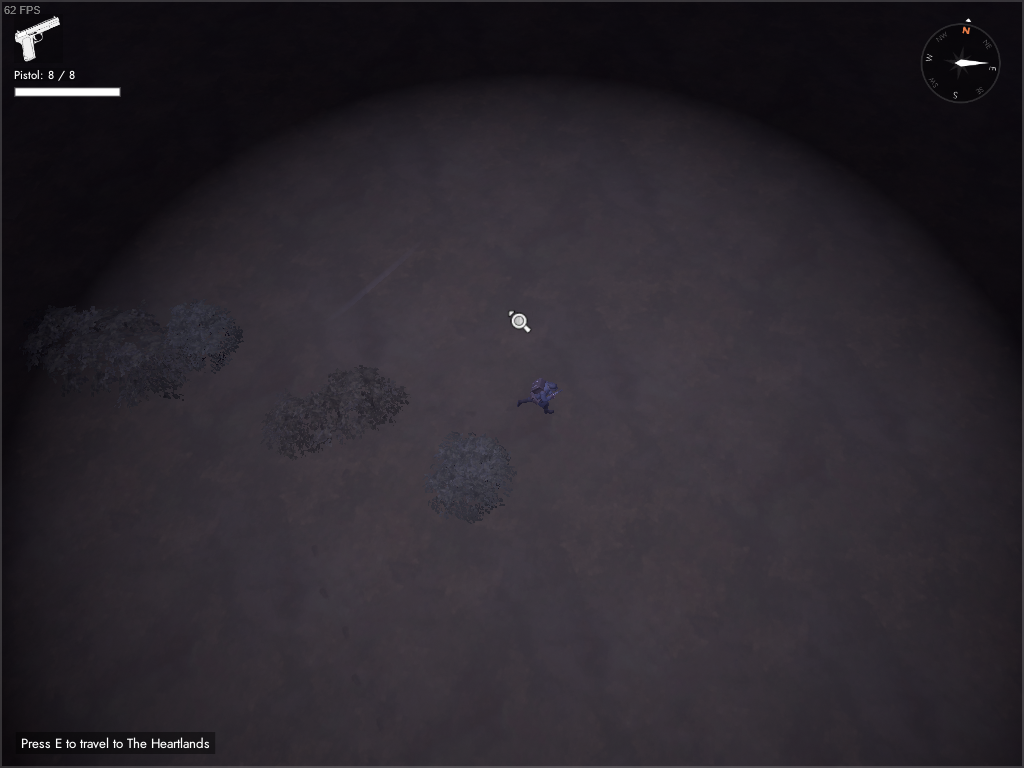player: (515, 374, 562, 418)
